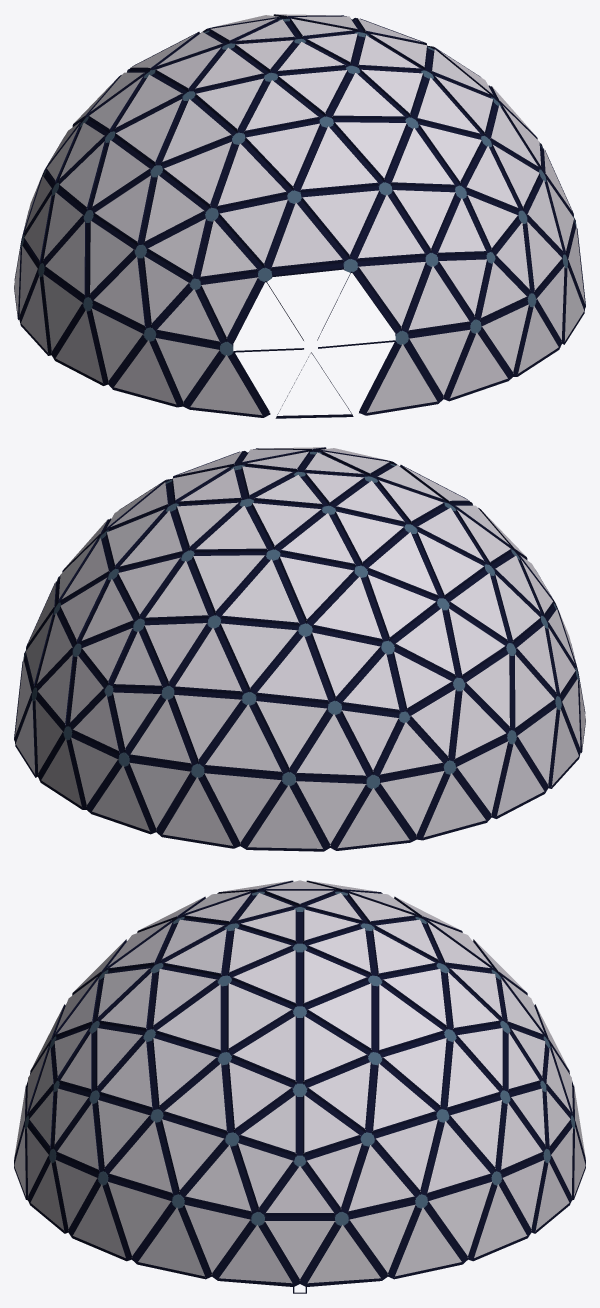
Rendered from researchtent.fbx.
3 views of the same model, one above another, from view 1: azimuth 30°, elevation 25°; view 2: azimuth 150°, elevation 25°; view 3: azimuth 270°, elevation 25° (orthographic).
Visible parts, largest first — view 1: Icosphere; view 2: Icosphere; view 3: Icosphere.
Boxes of the visible parts, x1,y1,x2,y2 form: Icosphere: [14, 14, 585, 418]; Icosphere: [14, 447, 585, 851]; Icosphere: [14, 880, 585, 1293].
Bounding box in the file's own units: 199 × 102 × 199.
